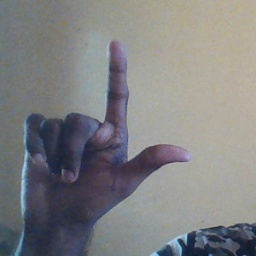L: (13, 38, 192, 223)
